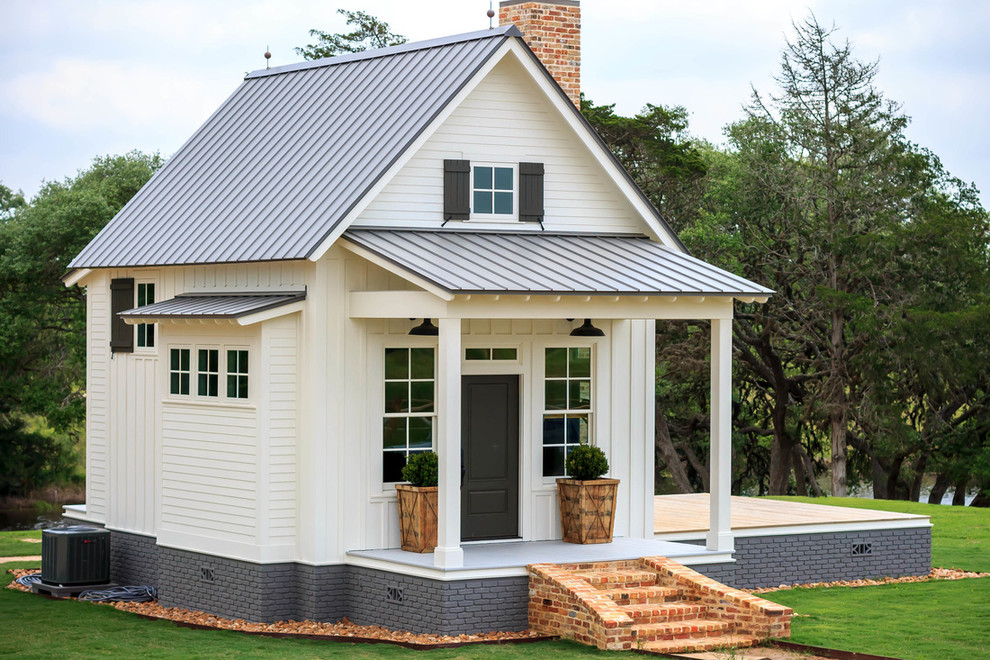Tin-shade House: (41, 30, 760, 593)
